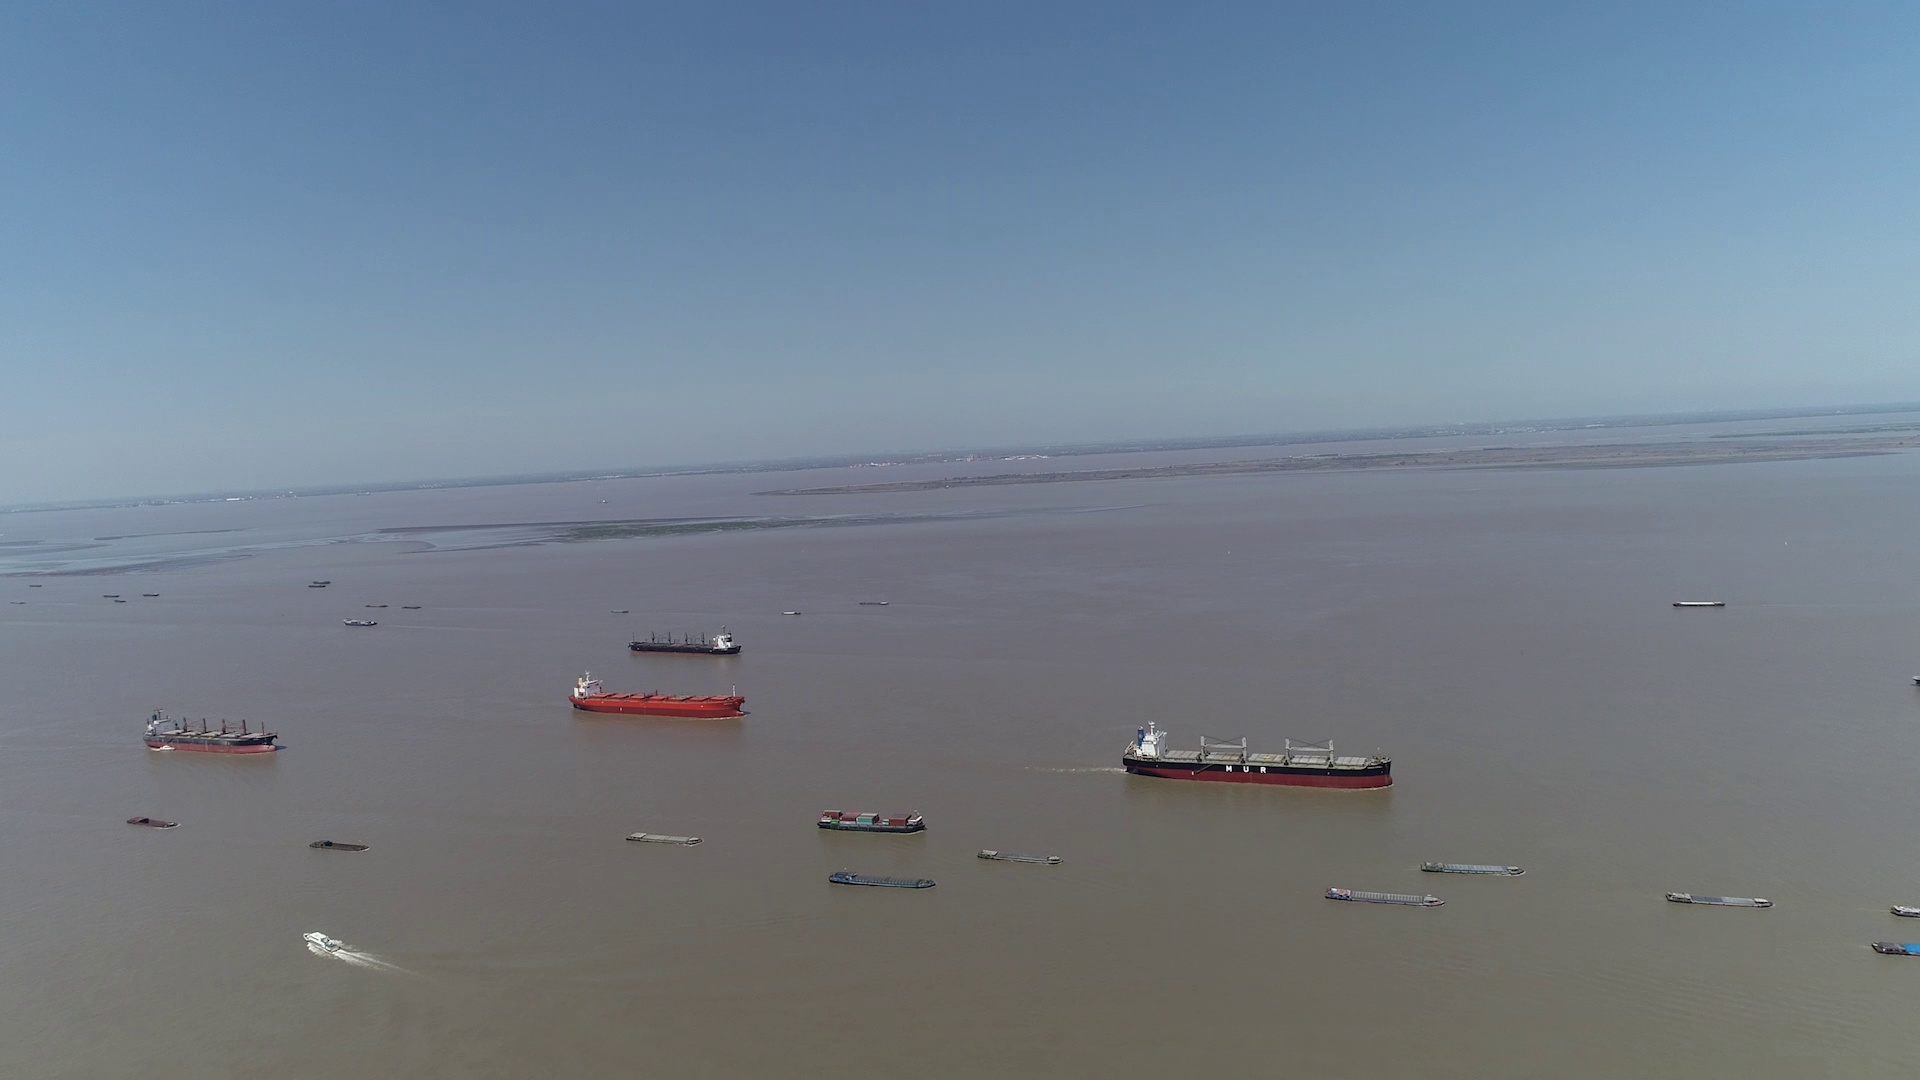ship: (1118, 721, 1393, 791), (568, 673, 745, 717), (144, 709, 277, 754), (628, 626, 744, 654), (818, 807, 927, 833), (1323, 887, 1447, 909), (1665, 890, 1772, 909), (828, 872, 936, 889), (1422, 861, 1524, 876), (977, 847, 1062, 864), (625, 831, 705, 847), (1874, 936, 1919, 959), (309, 837, 372, 851), (302, 928, 336, 949), (127, 815, 174, 828), (1672, 597, 1726, 607), (1891, 902, 1920, 919), (348, 617, 376, 626), (306, 579, 331, 585)
